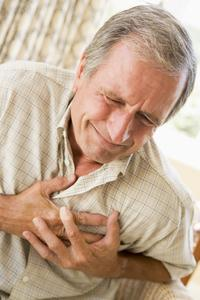pain: (100, 87, 162, 134)
